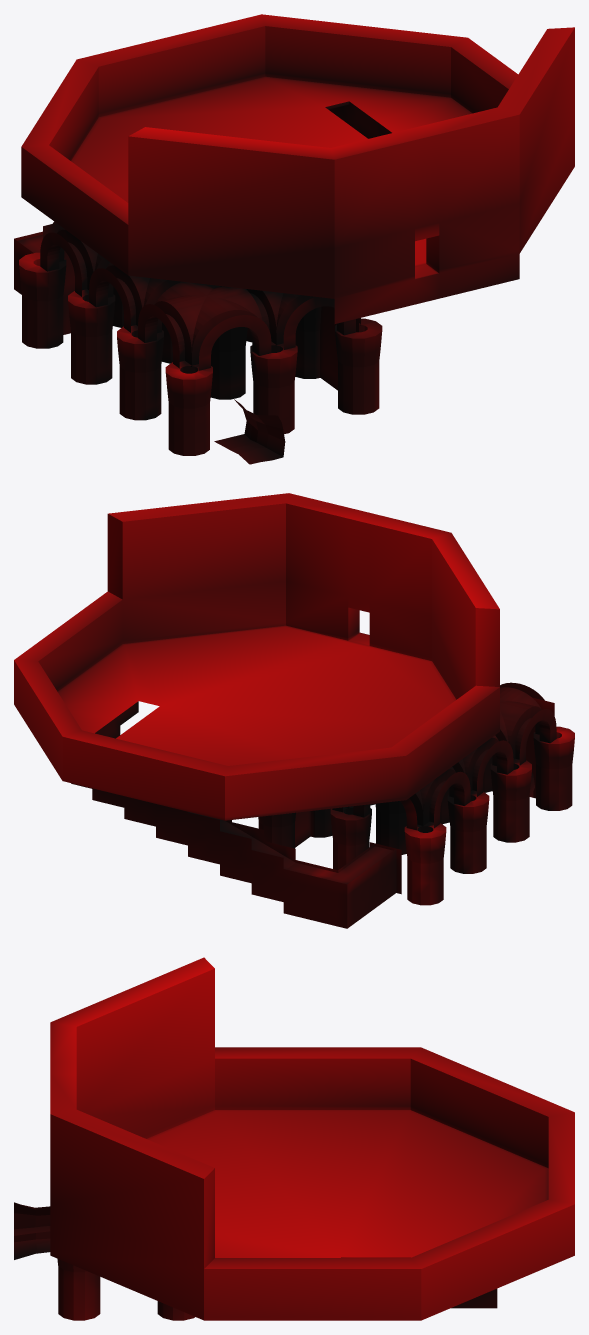
The model's file is mountain_base_update_2.obj.
3 views of the same model, one above another, from view 1: azimuth 30°, elevation 25°; view 2: azimuth 150°, elevation 25°; view 3: azimuth 270°, elevation 25° (orthographic). The views are drawn at different scales.
Visible parts, largest first — view 1: FortressSurface, BasementPillars, BasementCeilng, Hole, BasementWall, StairWall; view 2: FortressSurface, BasementPillars, StairWall, BasementCeilng, StairCeiling, BasementWall; view 3: FortressSurface, BasementPillars, Hole, StairWall.
Part boxes in pixels (left/top/right/bottom): FortressSurface: left=21, top=14, right=574, bottom=323; BasementPillars: left=19, top=252, right=382, bottom=455; BasementCeilng: left=40, top=221, right=360, bottom=370; Hole: left=214, top=399, right=285, bottom=464; BasementWall: left=43, top=223, right=358, bottom=390; StairWall: left=14, top=101, right=391, bottom=294; FortressSurface: left=14, top=493, right=499, bottom=820; BasementPillars: left=258, top=726, right=574, bottom=905; StairWall: left=71, top=701, right=396, bottom=928; BasementCeilng: left=332, top=682, right=556, bottom=830; StairCeiling: left=188, top=811, right=392, bottom=884; BasementWall: left=295, top=697, right=554, bottom=894; FortressSurface: left=50, top=957, right=574, bottom=1320; BasementPillars: left=57, top=1258, right=194, bottom=1320; Hole: left=14, top=1202, right=50, bottom=1259; StairWall: left=341, top=1257, right=497, bottom=1308.
Bounding box in the file's own units: 38.67 × 21.18 × 39.53.
